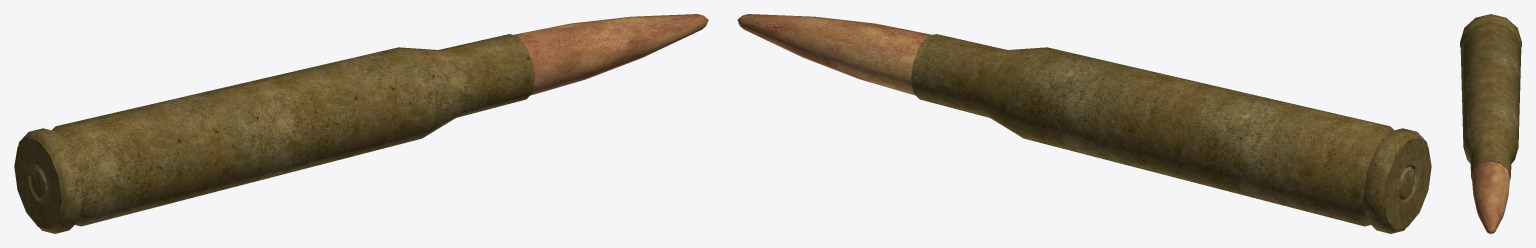
The model's file is bullet.fbx.
The picture shows the model from 3 angles, left to right: view 1: azimuth 30°, elevation 25°; view 2: azimuth 150°, elevation 25°; view 3: azimuth 270°, elevation 25°; orthographic projection. The views are drawn at different scales.
Parts seen in each view (by area): view 1: Cylinder001, Sphere001; view 2: Cylinder001, Sphere001; view 3: Cylinder001, Sphere001.
Boxes of the visible parts, x1=… form: Cylinder001: x1=14, y1=34, x2=534, y2=233; Sphere001: x1=513, y1=14, x2=708, y2=95; Cylinder001: x1=911, y1=34, x2=1431, y2=233; Sphere001: x1=737, y1=14, x2=932, y2=95; Cylinder001: x1=1460, y1=14, x2=1521, y2=179; Sphere001: x1=1472, y1=161, x2=1509, y2=233.
Bounding box in the file's own units: 204 × 27.78 × 27.78.
2 materials, 2 textured.
